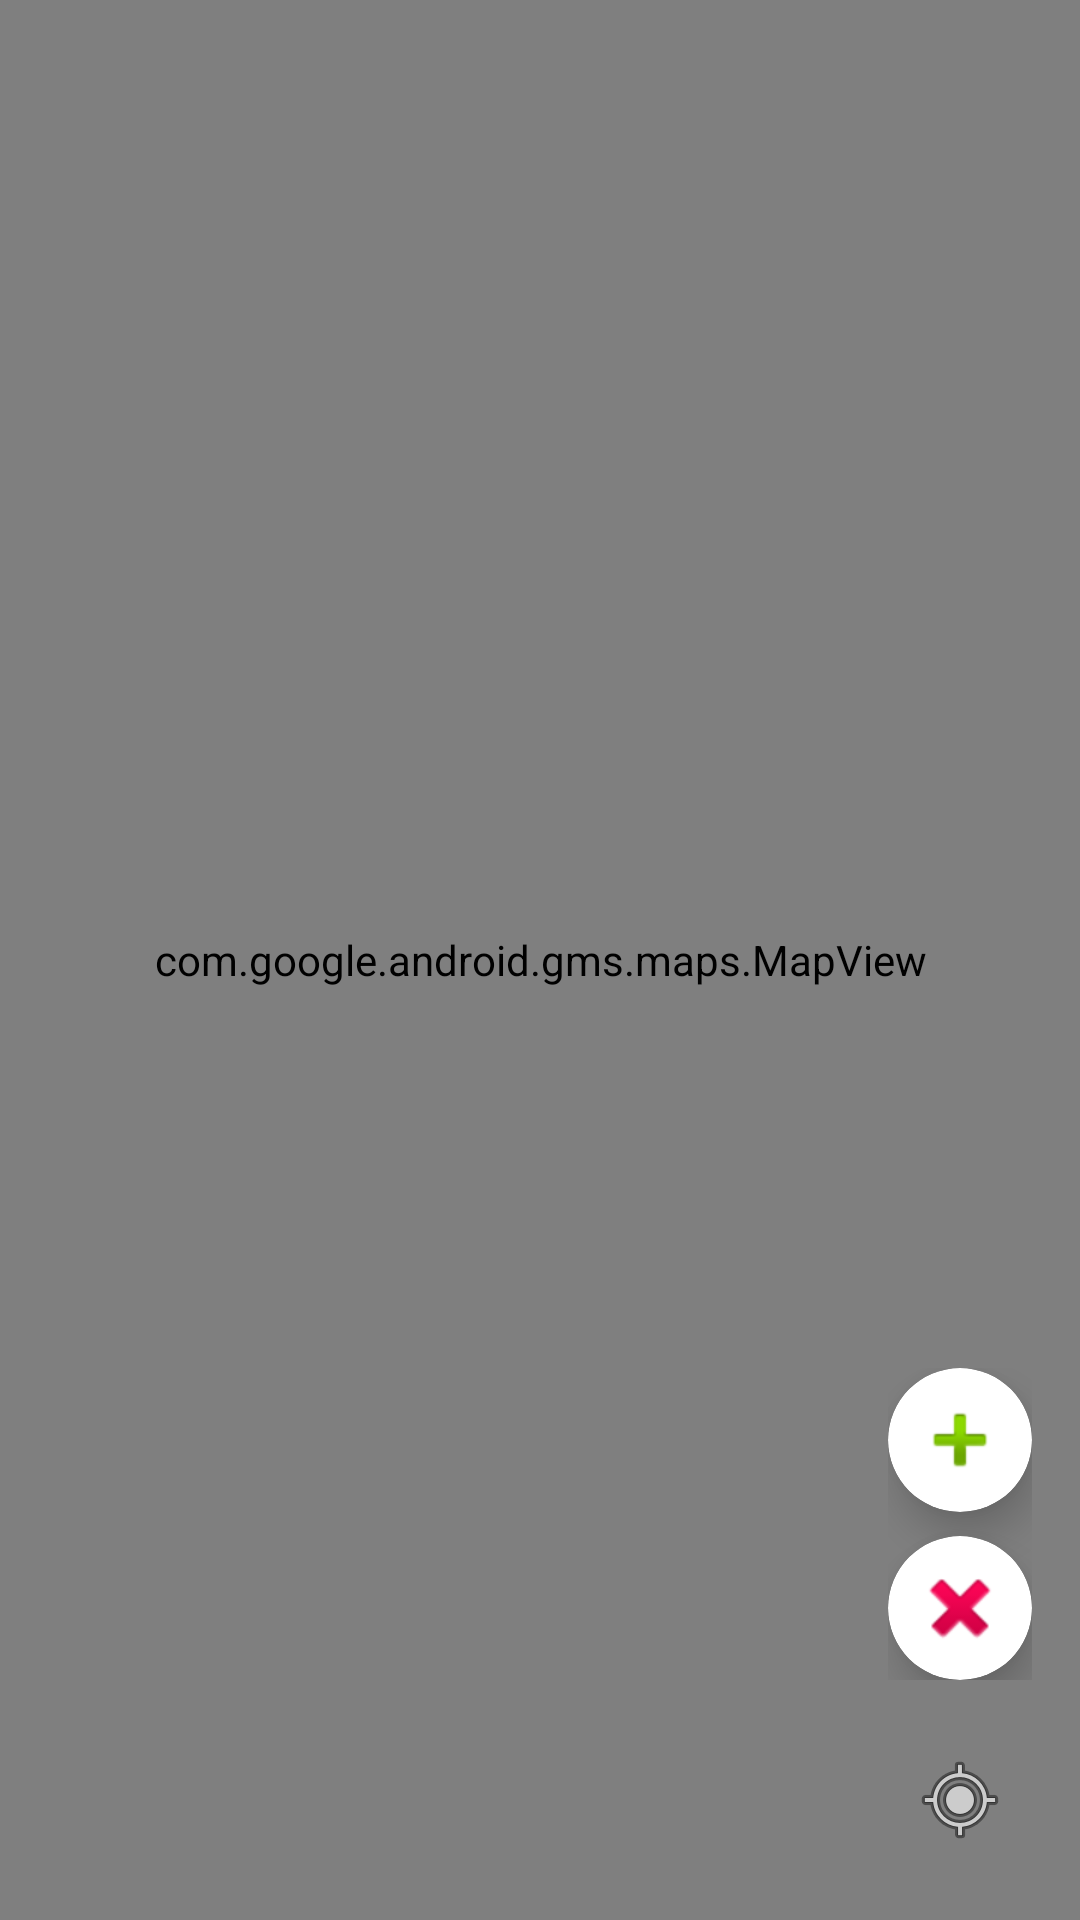

Where to tap for icons on this 1080x1920 app screen, as [x,y]:
mylocation: [960,1800]
Увеличить: [960,1440]
